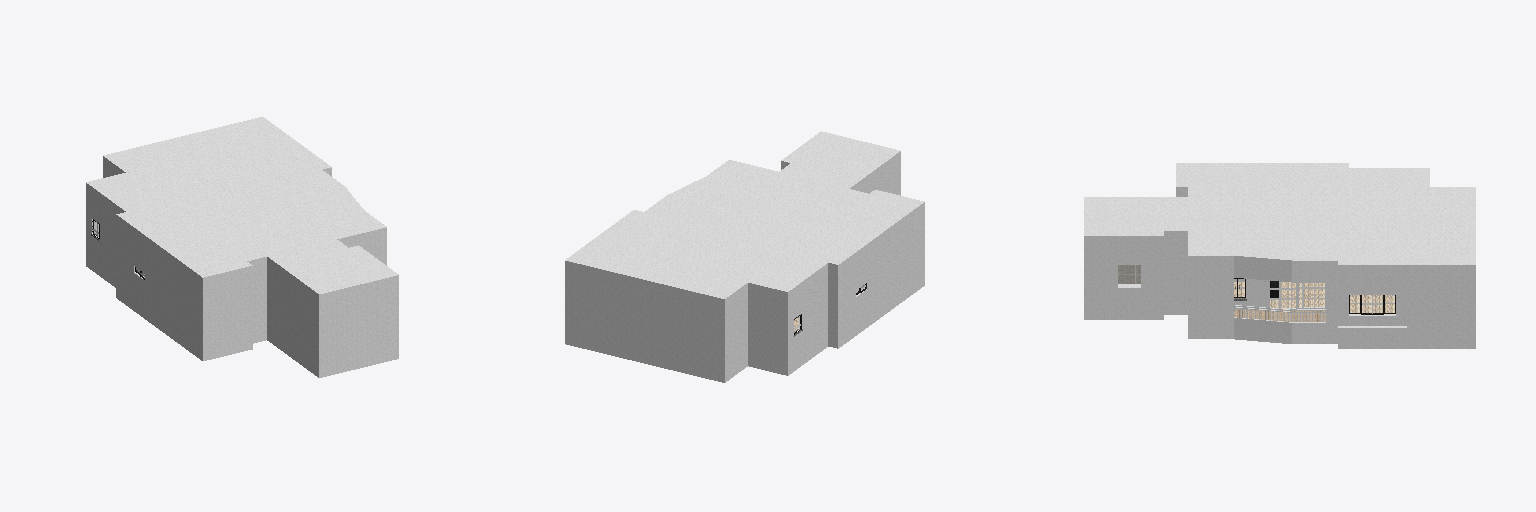
3 views of the same model, side by side, from view 1: azimuth 30°, elevation 25°; view 2: azimuth 150°, elevation 25°; view 3: azimuth 270°, elevation 25° (orthographic).
Visible parts, largest first — view 1: minecraft_hardened_clay_stained_white_-1; view 2: minecraft_hardened_clay_stained_white_-1; view 3: minecraft_hardened_clay_stained_white_-1, minecraft_glazed_terracotta_black_-1, minecraft_end_stone_-1.
Boxes of the visible parts, <box> form: minecraft_hardened_clay_stained_white_-1: <box>86,117,398,377</box>; minecraft_hardened_clay_stained_white_-1: <box>565,131,924,382</box>; minecraft_hardened_clay_stained_white_-1: <box>1084,163,1475,348</box>; minecraft_glazed_terracotta_black_-1: <box>1234,282,1394,312</box>; minecraft_end_stone_-1: <box>1234,310,1325,321</box>.
Size of the model in its own units: 21 by 8 by 34.
25 materials, 23 textured.